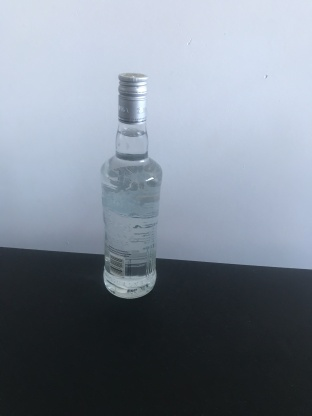nakretka: (116, 70, 148, 126)
